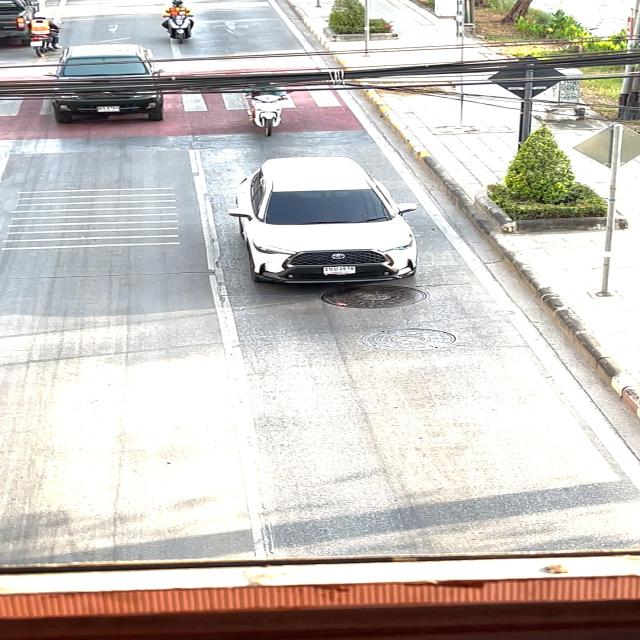car: (208, 148, 440, 310)
